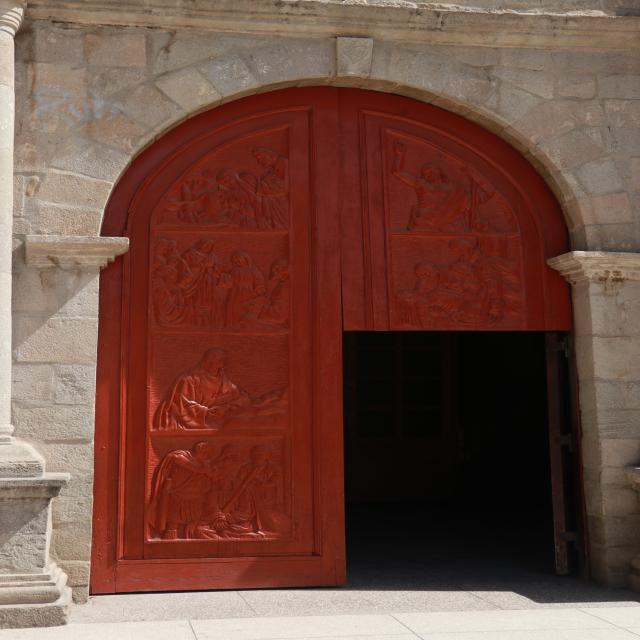PORTADA CENTRAL: (66, 46, 614, 611)
